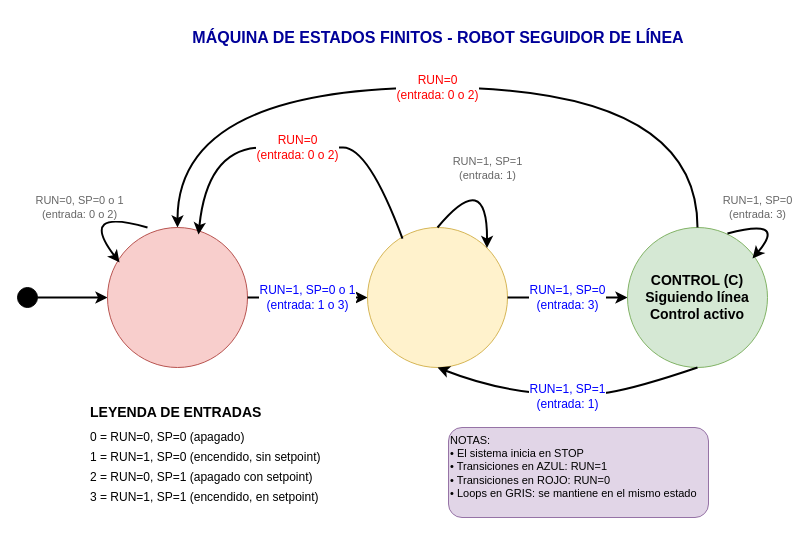
The diagram is 810 pixels wide and 535 high, and some of its shapes have lost their labels. Here are the shapes that lost their labels. From the top down, the centre of each, then its label:
At (177,297): "STOP (S) Estado de parada Robot detenido".
At (437,297): "ACEL (A) Acelerando Hasta setpoint".
